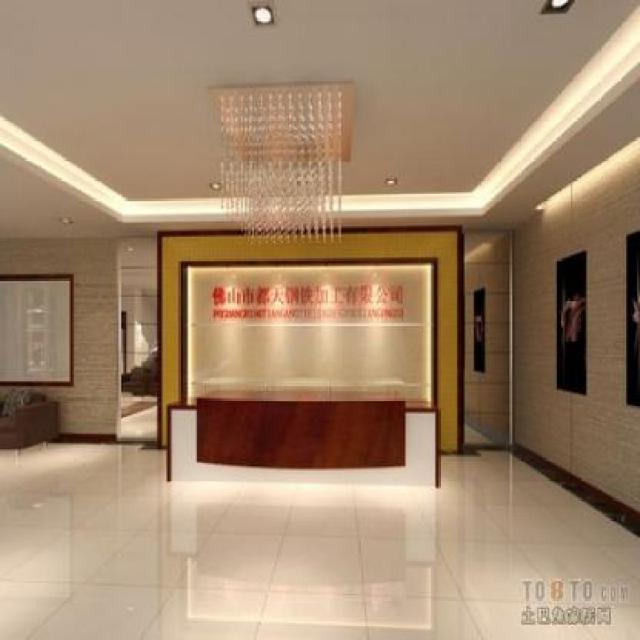frontdesk: (159, 380, 446, 494)
